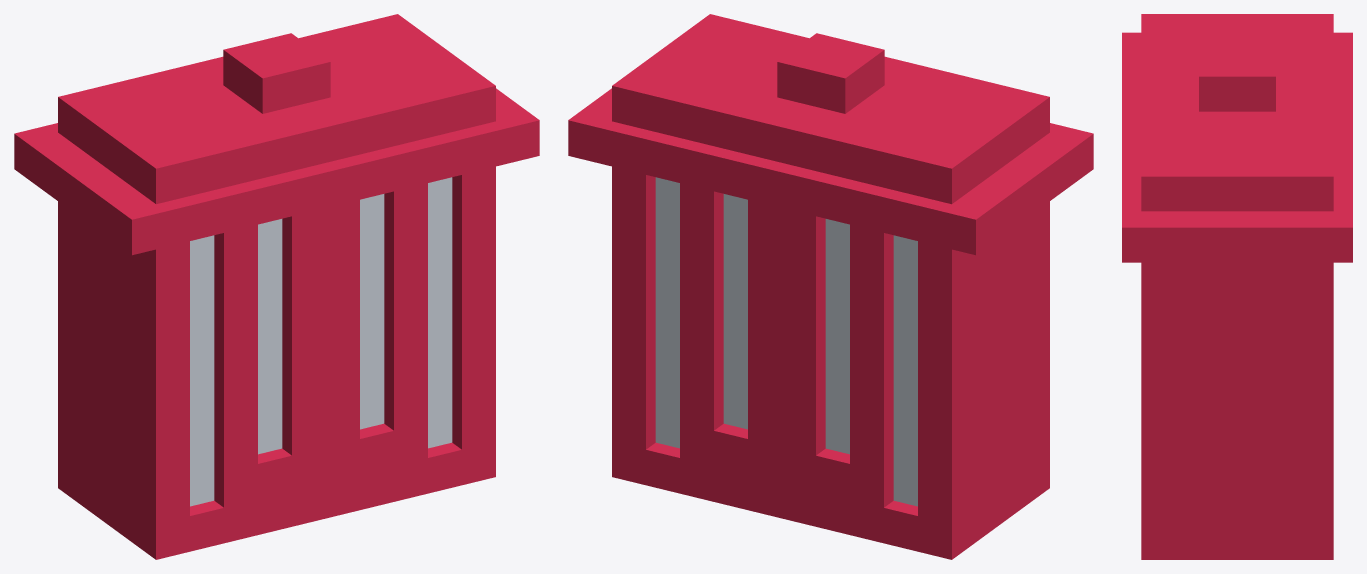
Rendered from Trashcan.obj.
3 views of the same model, side by side, from view 1: azimuth 30°, elevation 25°; view 2: azimuth 150°, elevation 25°; view 3: azimuth 270°, elevation 25° (orthographic). The views are drawn at different scales.
Bounding box in the file's own units: 12 × 12 × 6.
Materials: 1 (1 with a texture image).
